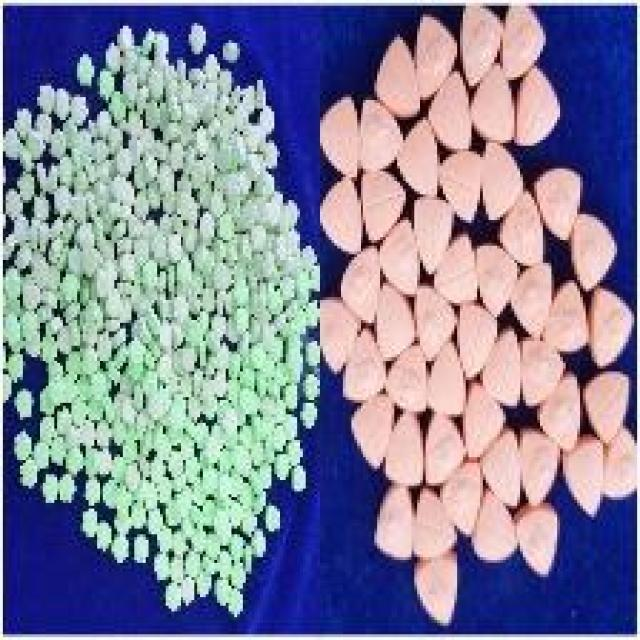Medicine: (0, 7, 320, 636), (315, 16, 640, 623)
